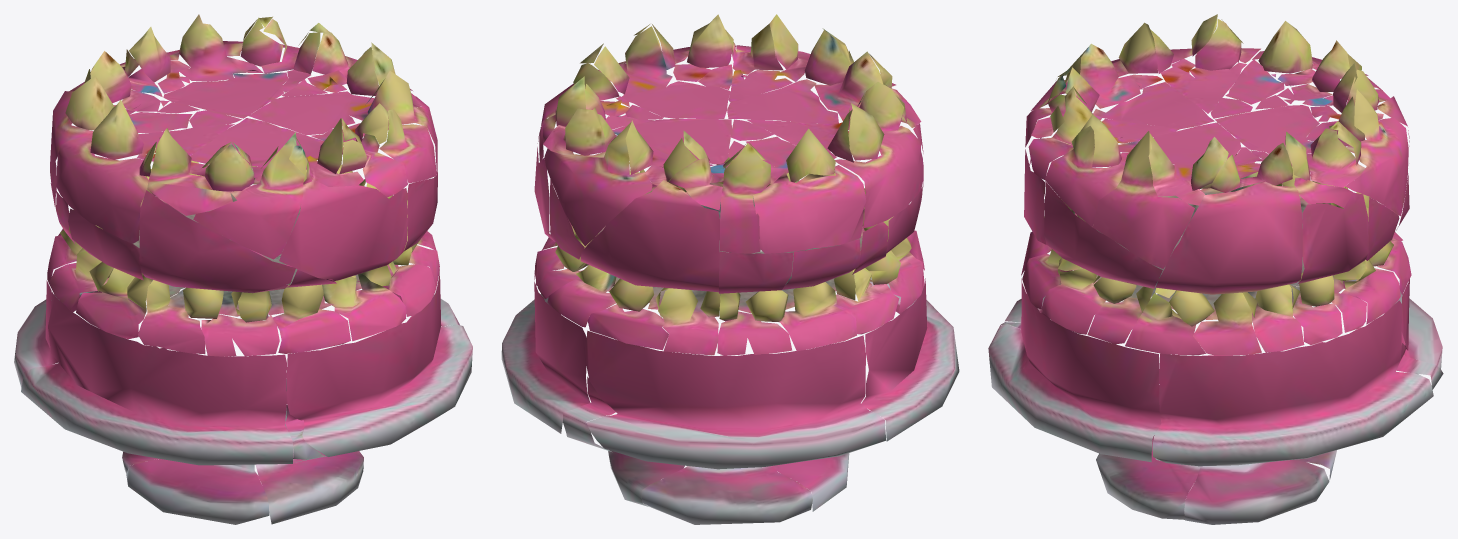
File: prop_cake.glb
3 views of the same model, side by side, from view 1: azimuth 30°, elevation 25°; view 2: azimuth 150°, elevation 25°; view 3: azimuth 270°, elevation 25° (orthographic).
Parts seen in each view (by area): view 1: prop_cake; view 2: prop_cake; view 3: prop_cake.
Part boxes in pixels (box(x1,y1,x2,y2)): prop_cake: box(14, 14, 472, 524); prop_cake: box(501, 14, 959, 524); prop_cake: box(988, 14, 1443, 524).
Bounding box in the file's own units: 0.4124 × 0.4051 × 0.4156.
Materials: 1 (1 with a texture image).
